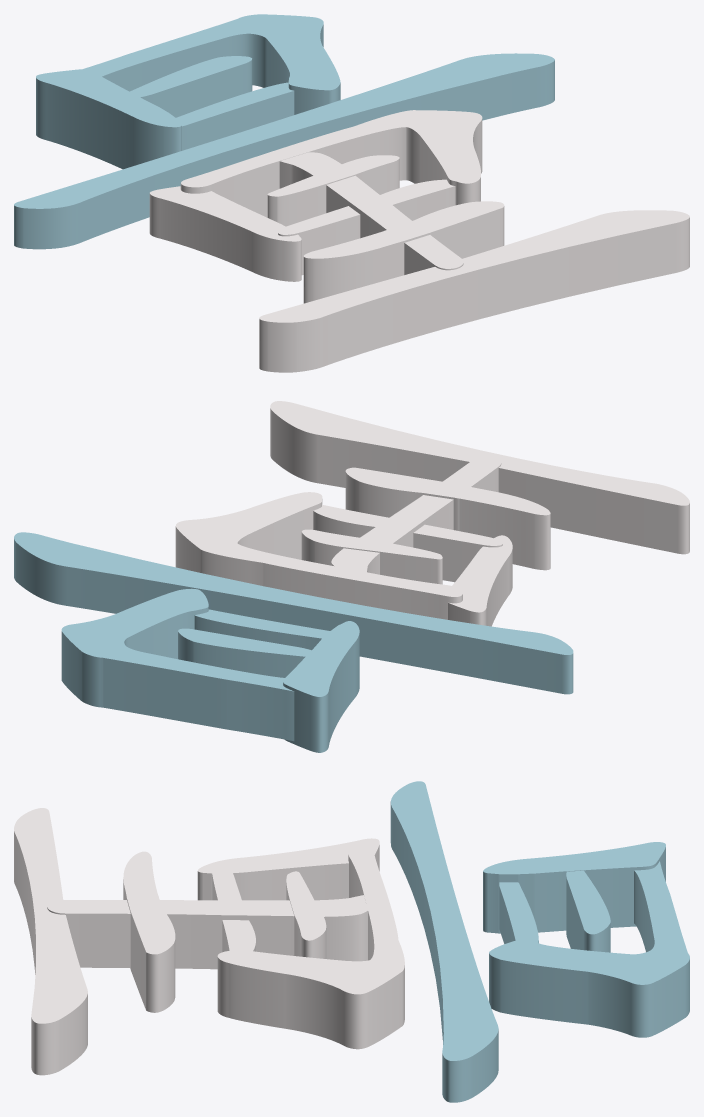
File: hanzi242.fbx
3 views of the same model, one above another, from view 1: azimuth 30°, elevation 25°; view 2: azimuth 150°, elevation 25°; view 3: azimuth 270°, elevation 25° (orthographic). The views are drawn at different scales.
Visible parts, largest first — view 1: Curve.011, Curve.004, Curve.006, Curve.001, Curve, Curve.010, Curve.005, Curve.009, Curve.002, Curve.008, Curve.007, Curve.003; view 2: Curve.004, Curve.011, Curve.001, Curve.006, Curve.010, Curve, Curve.009, Curve.002, Curve.008, Curve.005, Curve.007, Curve.003; view 3: Curve.001, Curve.006, Curve.004, Curve.009, Curve.011, Curve, Curve.005, Curve.010, Curve.002, Curve.007, Curve.003, Curve.008.
Part boxes in pixels (bbox=[...]): Curve.011: bbox=[259, 210, 689, 372]; Curve.004: bbox=[14, 53, 554, 249]; Curve.006: bbox=[180, 110, 482, 217]; Curve.001: bbox=[83, 14, 340, 114]; Curve: bbox=[36, 69, 181, 169]; Curve.010: bbox=[303, 201, 504, 303]; Curve.005: bbox=[149, 186, 301, 281]; Curve.009: bbox=[279, 152, 463, 274]; Curve.002: bbox=[130, 56, 252, 117]; Curve.008: bbox=[278, 179, 455, 275]; Curve.007: bbox=[267, 155, 399, 226]; Curve.003: bbox=[176, 82, 294, 150]; Curve.004: bbox=[14, 532, 573, 694]; Curve.011: bbox=[270, 401, 689, 554]; Curve.001: bbox=[61, 588, 294, 741]; Curve.006: bbox=[175, 492, 462, 619]; Curve.010: bbox=[345, 467, 550, 570]; Curve: bbox=[283, 621, 359, 752]; Curve.009: bbox=[331, 457, 501, 574]; Curve.002: bbox=[178, 628, 311, 677]; Curve.008: bbox=[313, 505, 502, 582]; Curve.005: bbox=[448, 535, 512, 626]; Curve.007: bbox=[301, 529, 442, 584]; Curve.003: bbox=[194, 609, 329, 650]; Curve.001: bbox=[489, 861, 689, 1037]; Curve.006: bbox=[217, 845, 404, 1049]; Curve.004: bbox=[390, 781, 498, 1102]; Curve.009: bbox=[47, 895, 367, 969]; Curve.011: bbox=[14, 808, 87, 1075]; Curve: bbox=[483, 842, 665, 933]; Curve.005: bbox=[197, 838, 379, 900]; Curve.010: bbox=[123, 851, 175, 1012]; Curve.002: bbox=[566, 870, 610, 952]; Curve.007: bbox=[286, 871, 326, 958]; Curve.003: bbox=[499, 882, 538, 943]; Curve.008: bbox=[212, 864, 255, 952].
Bounding box in the file's own units: 23.87 × 24.37 × 2.36.
